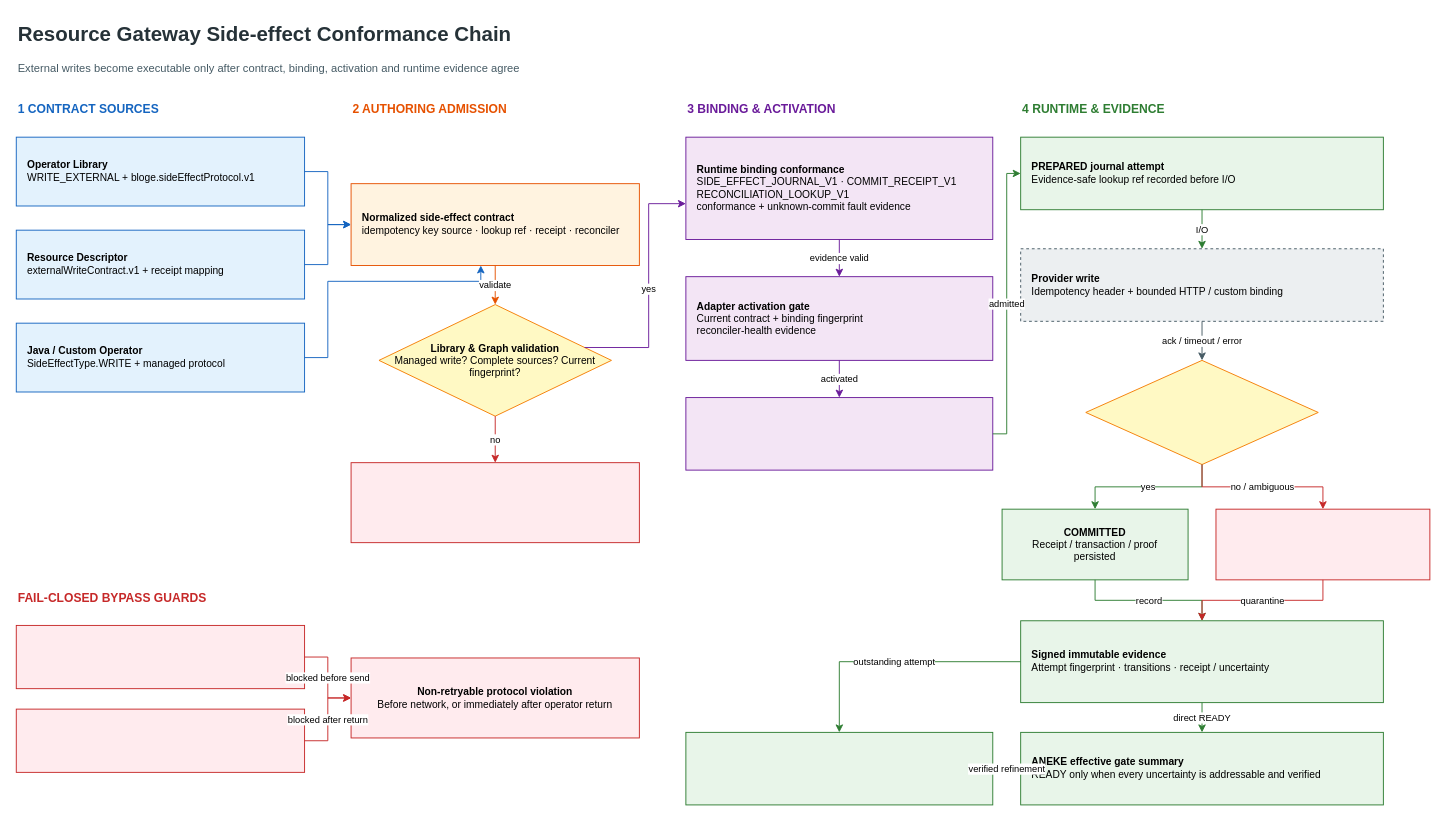
The diagram is 1446 pixels wide and 821 high, and some of its shapes have lost their labels. Each missing label, with the box of its shape:
DESIGN only Write protocol required Run / EXECUTABLE publish blocked: (350, 462, 639, 543)
Invocation admission Reject unmanaged WRITE before business code: (685, 397, 993, 470)
Managed WRITE returns without journal adoption: (15, 708, 305, 772)
Provider outcome has trustworthy receipt?: (1085, 359, 1318, 465)
Provider-owned reconciliation Lease + fence + safe lookup; signed refinement: (685, 731, 993, 805)
UNKNOWN_COMMIT Retry / fallback / downstream blocked: (1215, 508, 1430, 580)
Unsafe low-level httpRequest without PREPARED attempt: (15, 624, 305, 689)
